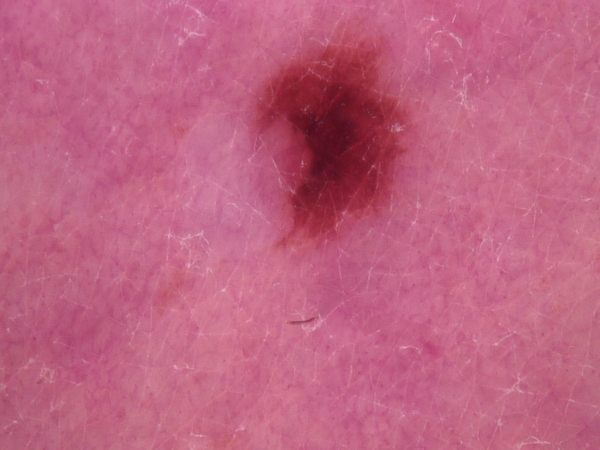Detected Lesion: (258, 37, 407, 252)
